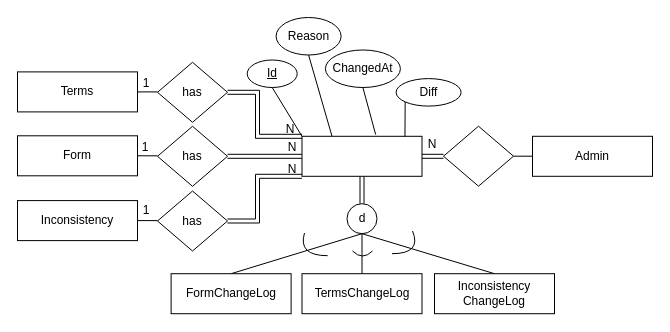
This 670x332 diagram has some shape labels left out. The shapes that lost their labels are listed below. From the top down, each one's centre as x and y in pixels, then its label:
point 361,155: ChangeLog
point 478,155: by
